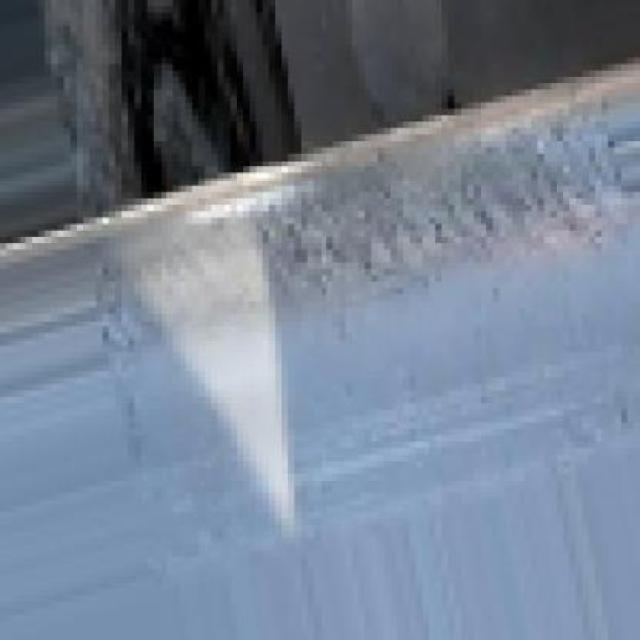non-defective: (1, 77, 640, 628)
